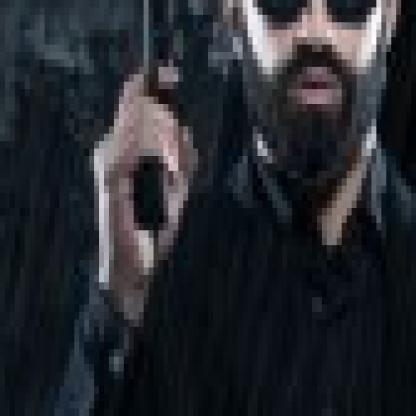gun: (134, 0, 173, 245)
